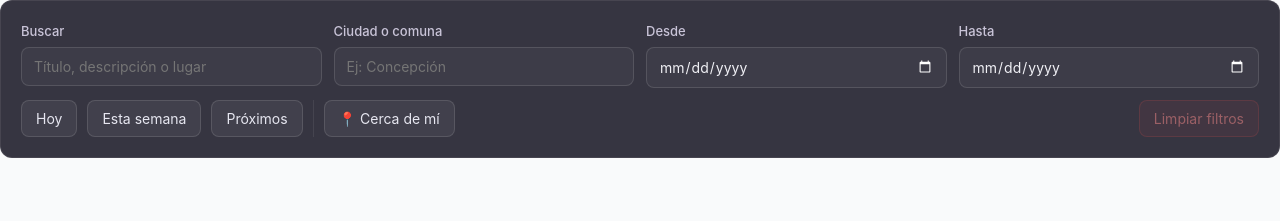
Test case: EventFilters — "Cerca de mí" elige la comuna más cercana › hides the notice when the user edits the location afterwards
The width and height of the screenshot is (1280, 221).
Click the button "📍 Cerca de mí".
click(389, 118)  # box x1=324 y1=100 x2=455 y2=137
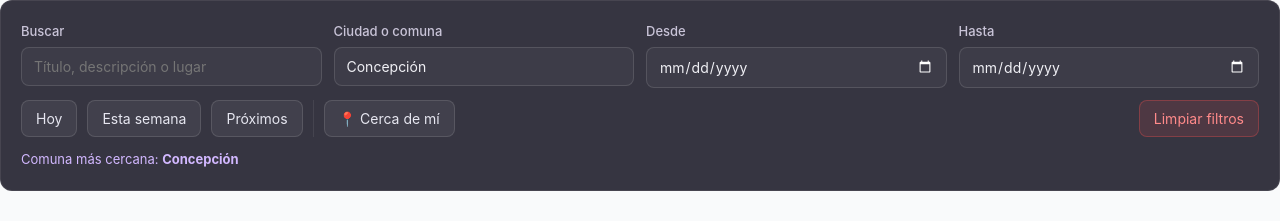
Now the message "Comuna más cercana: Concepción" is shown, box x1=21 y1=151 x2=239 y2=167
Type " Centro" into the dropdown labelled "Ciudad o comuna".
click(484, 66); type(" Centro")  # box x1=334 y1=47 x2=634 y2=86
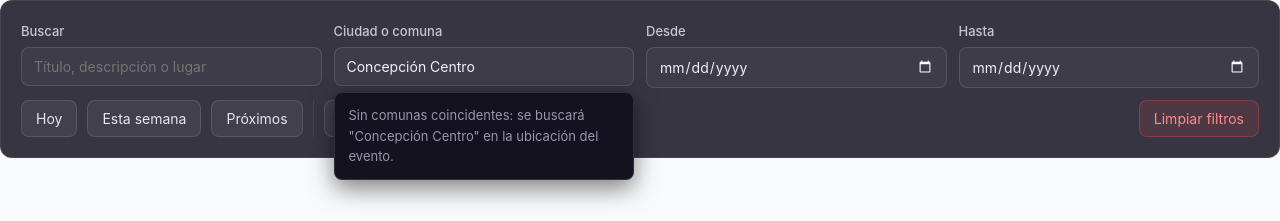
Now the message "Comuna más cercana: Concepción" is gone
